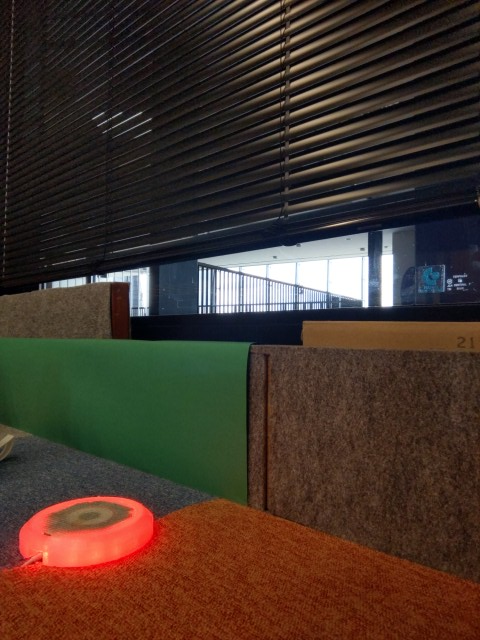r: (17, 492, 160, 569)
